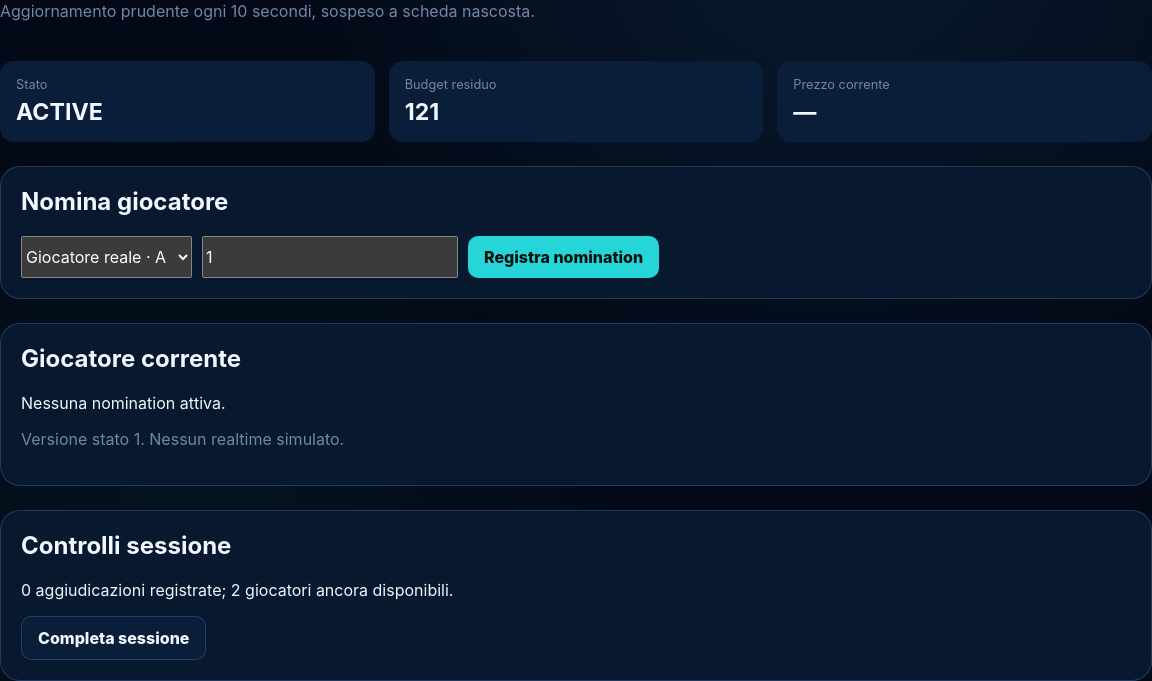
it: LiveAuctionPage lifecycle reale › chiude una sessione ACTIVE e rende lo stato non modificabile
(page scrolled)
What coordinates should you click on to do the following:
click the button "Completa sessione"
I would click on:
 (114, 638)
Its box is [21,616,206,660].
(page scrolled)
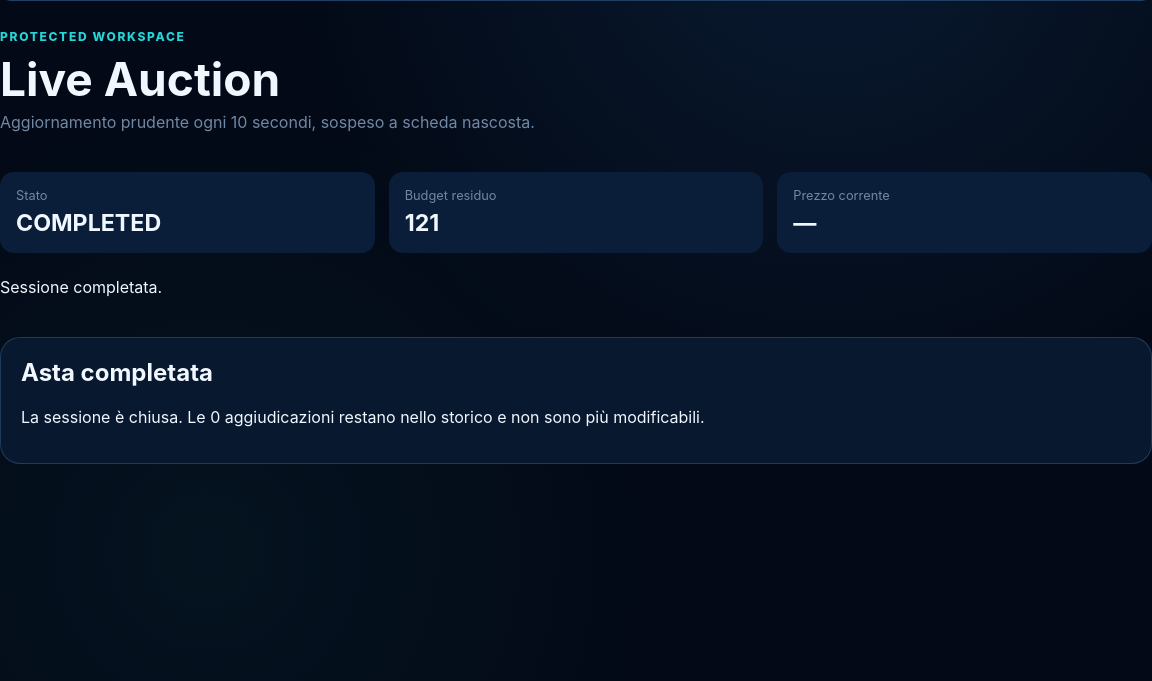
Expected: the heading "Asta completata" is shown, [21,358,213,387]
Expected: the button "Registra nomination" is gone
